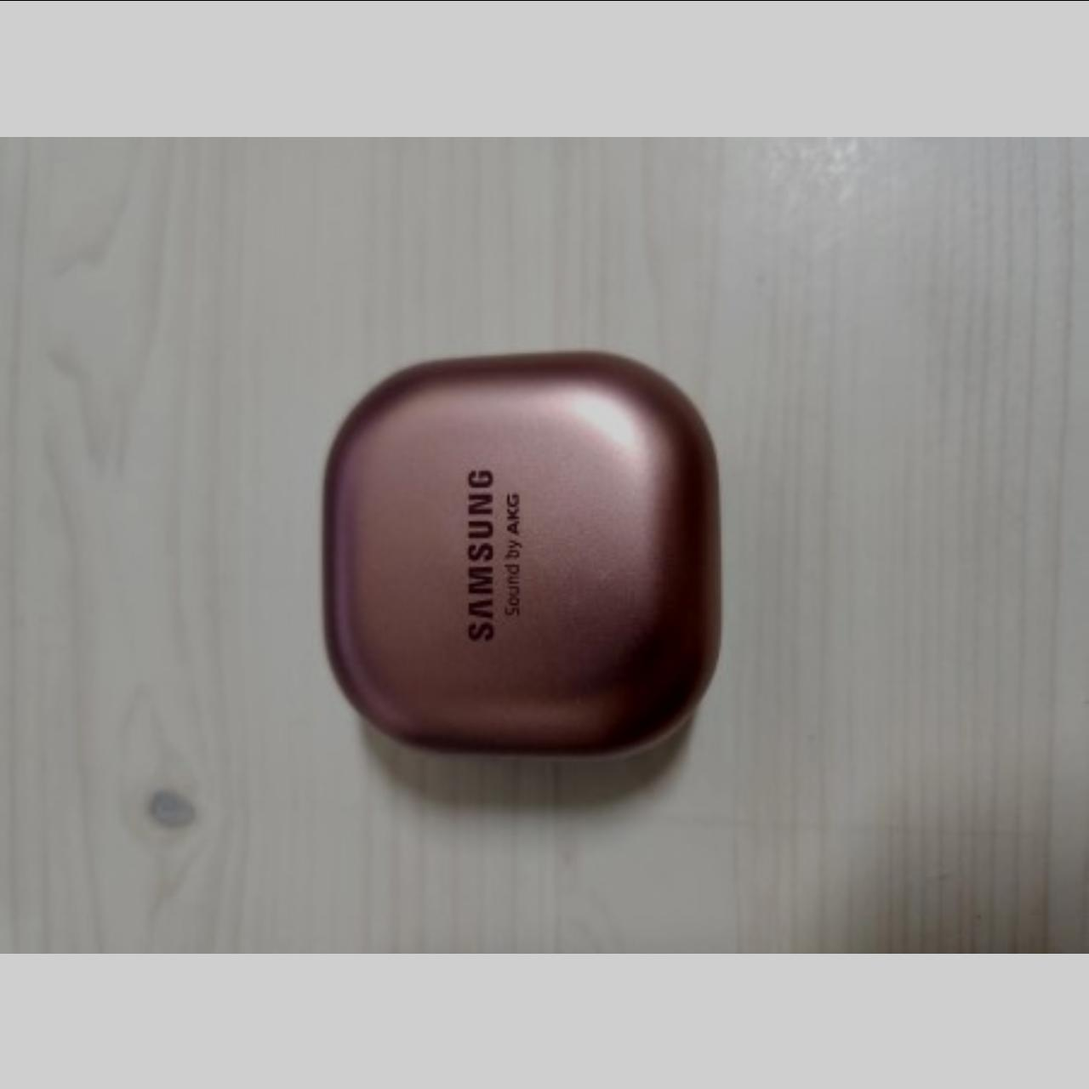Buds: (316, 348, 723, 760)
